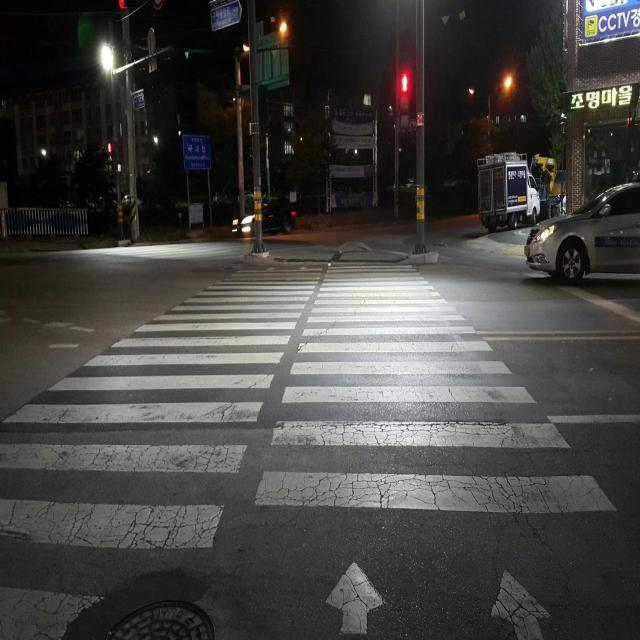빨간불: (396, 67, 414, 130)
횡단보도: (0, 256, 623, 640)
